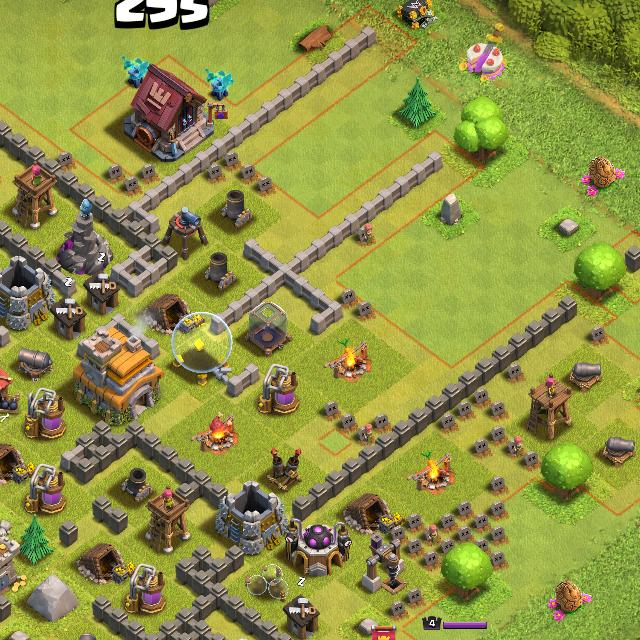Arqueira: (12, 164, 59, 227), (150, 489, 190, 552)
Canhao: (9, 346, 58, 382), (602, 430, 639, 470), (568, 360, 606, 389)
